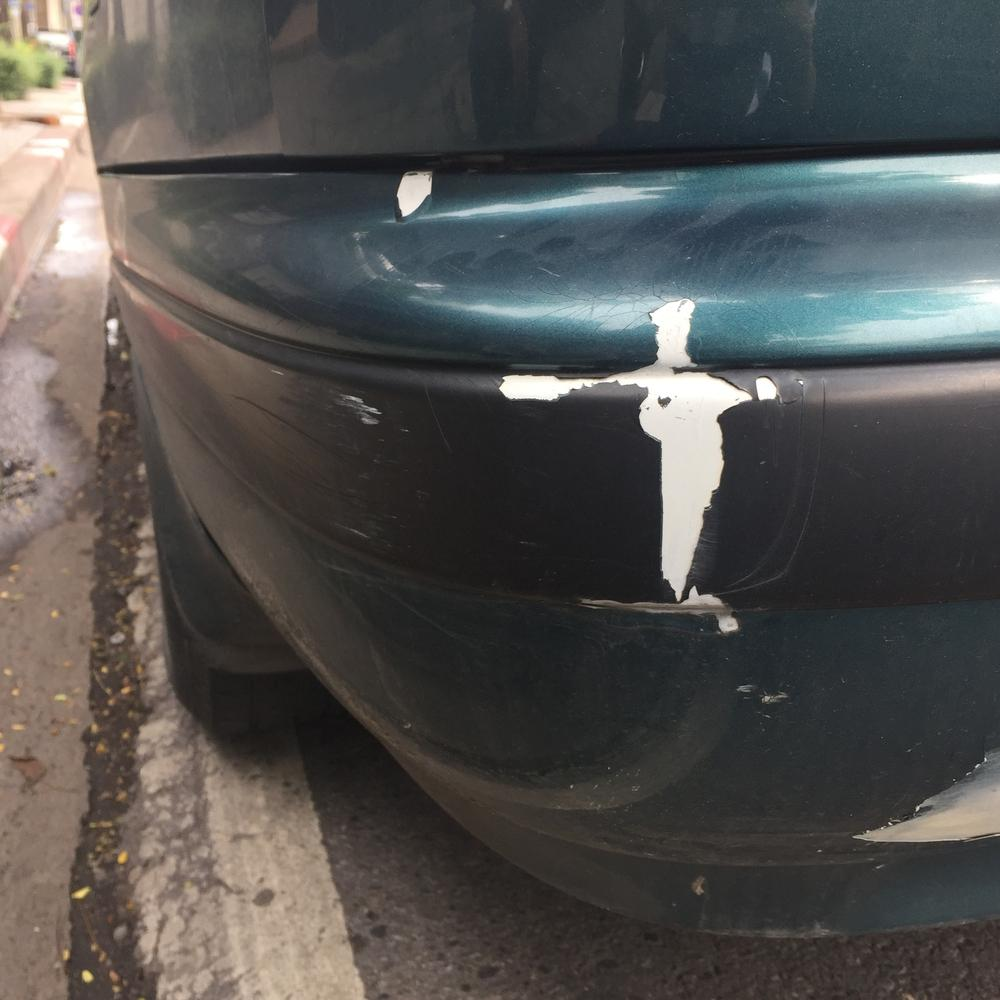scratch: (285, 289, 787, 632)
